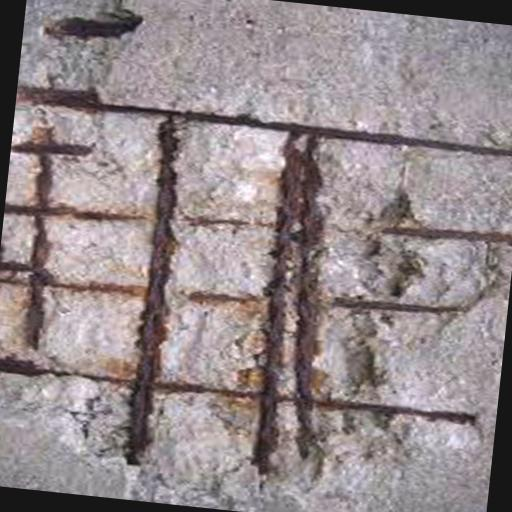spalling: (0, 56, 512, 503)
